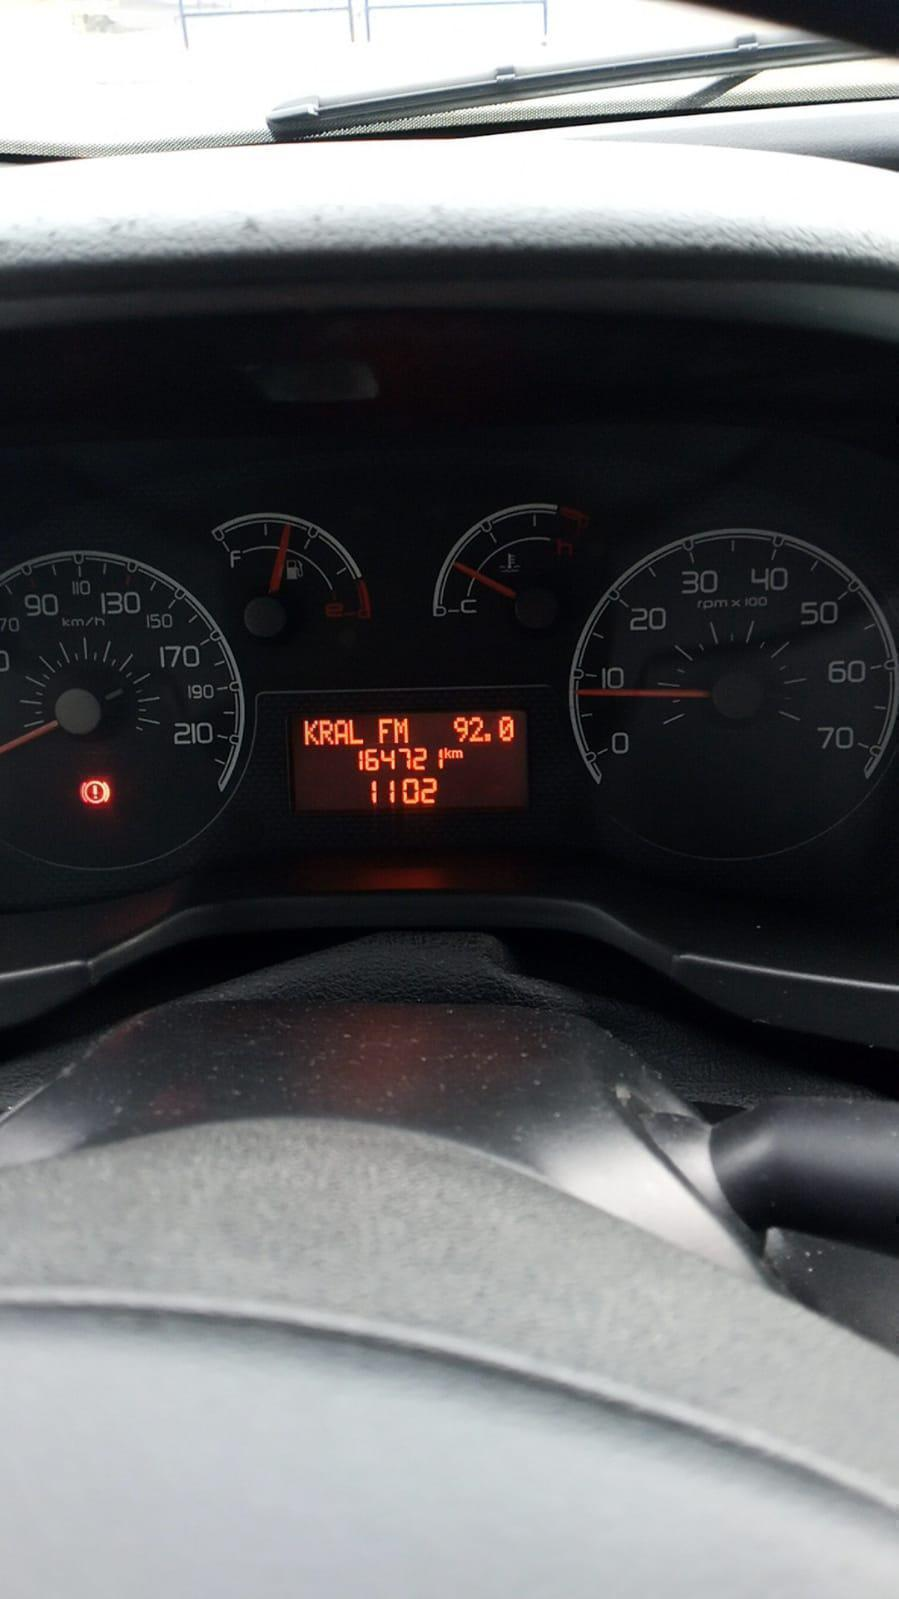,: (484, 731, 493, 742)
0: (400, 776, 420, 807), (497, 714, 515, 746)
1: (369, 776, 380, 805), (387, 776, 397, 806), (357, 746, 364, 773), (437, 747, 443, 772)
2: (422, 776, 438, 805), (413, 745, 429, 771), (469, 714, 483, 743)
4: (379, 748, 396, 770)
6: (364, 747, 379, 771)
7: (398, 746, 412, 770)
9: (452, 714, 469, 743)
X: (393, 716, 412, 743), (302, 718, 318, 746), (319, 718, 334, 747), (334, 718, 348, 746), (377, 716, 391, 743), (349, 718, 364, 743), (451, 747, 464, 759), (443, 745, 451, 759)
odometer: (296, 711, 529, 808)
